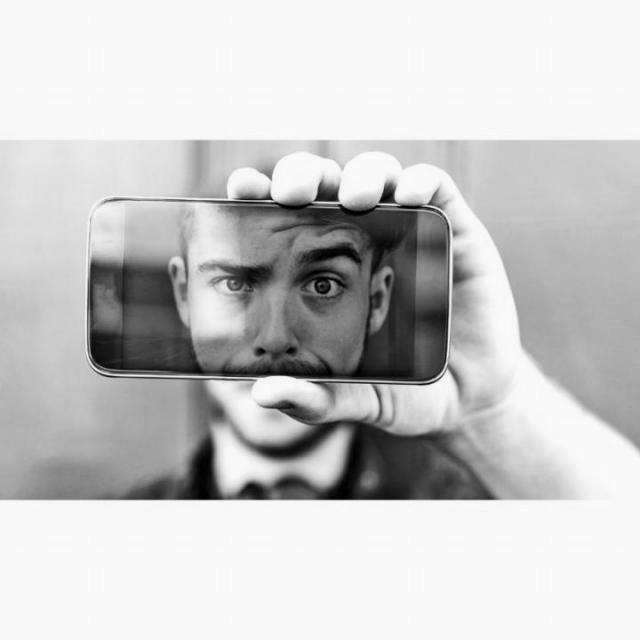fake: (83, 193, 456, 386)
